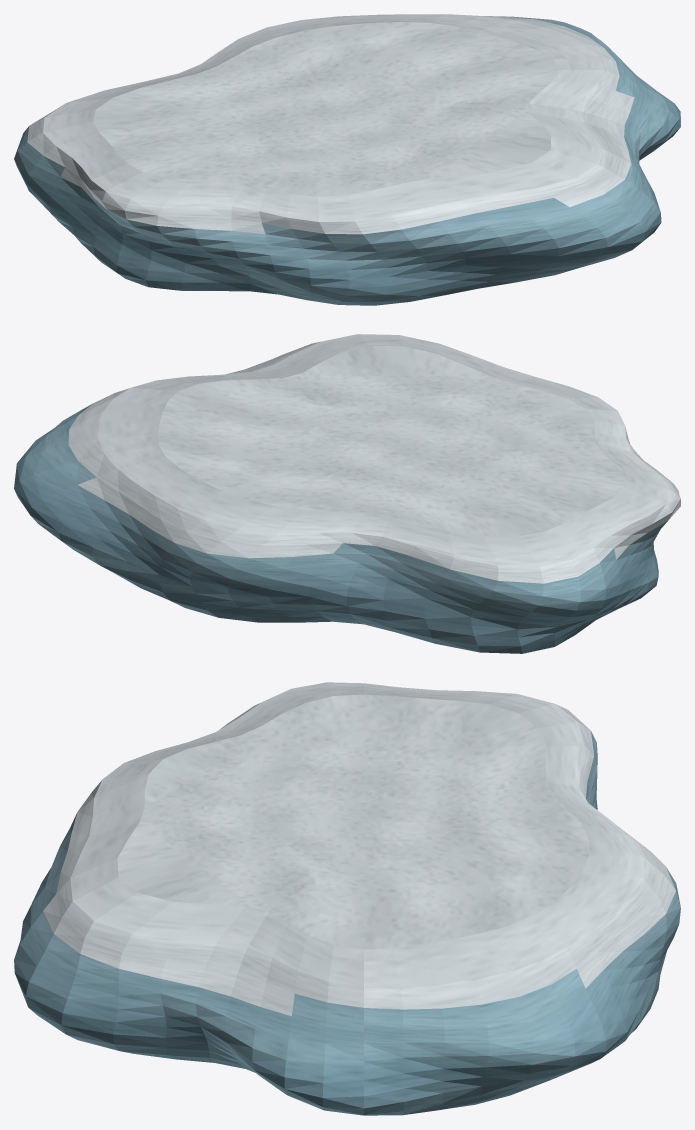
Rendered from ice_floe_large.glb.
The picture shows the model from 3 angles, top to bottom: view 1: azimuth 30°, elevation 25°; view 2: azimuth 150°, elevation 25°; view 3: azimuth 270°, elevation 25°; orthographic projection. The views are drawn at different scales.
Visible parts, largest first — view 1: ice_floe_large; view 2: ice_floe_large; view 3: ice_floe_large.
Boxes of the visible parts, x1=… form: ice_floe_large: x1=14, y1=14, x2=680, y2=305; ice_floe_large: x1=14, y1=334, x2=680, y2=653; ice_floe_large: x1=14, y1=682, x2=680, y2=1115.
Size of the model in its own units: 3.1 by 0.55 by 2.5.
Materials: 1 (1 with a texture image).
